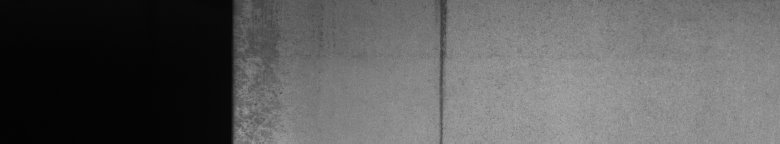hd: (428, 4, 455, 136)
